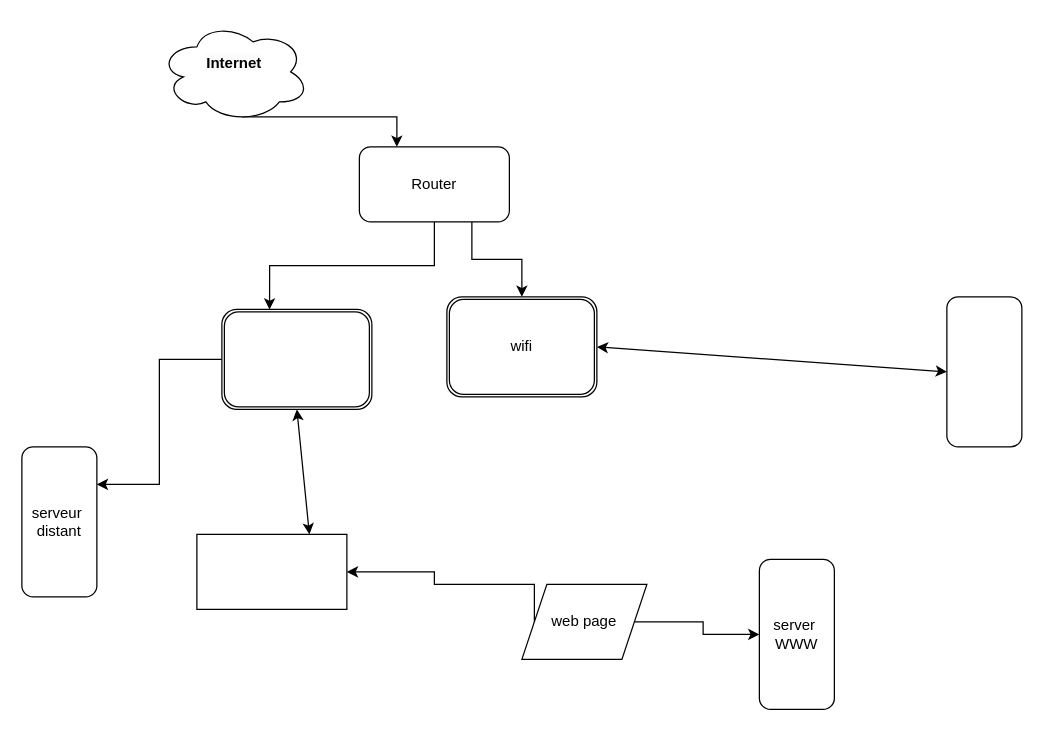
Image size: 1044x731. Some labels were removed from this diagram. The shapes that lost their labels are listed below. From the top down, each one's centre as x and y in pixels, then its label:
[296,358]: HUB
[984,371]: seveur FTP
[271,571]: PC client
